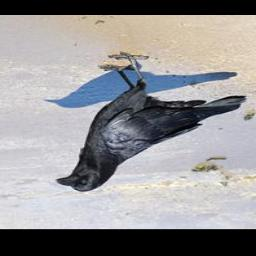Crow: (54, 52, 246, 192)
